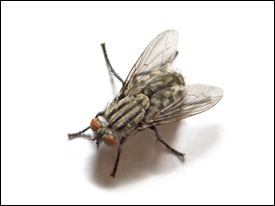fly: (64, 28, 225, 181)
